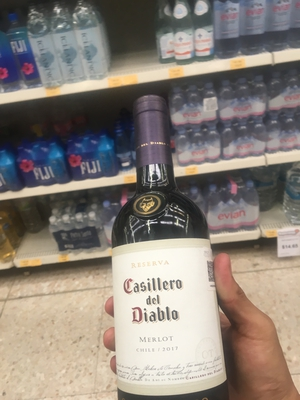casillero del diablo merlot: (96, 74, 230, 400)
